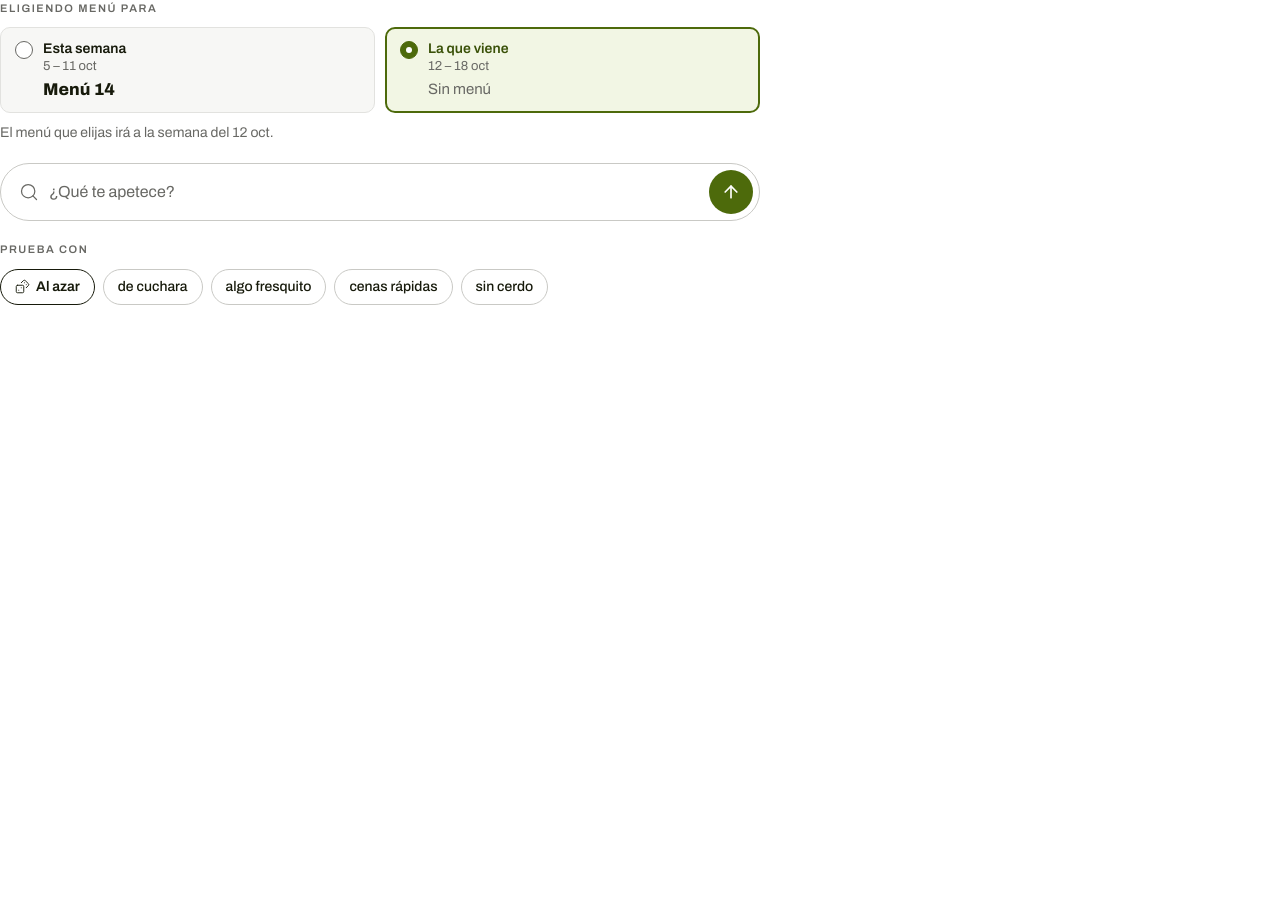
PlannerSearch › the week preview › asks in the footer, and not in the card, before replacing the menu of the week
Step 1. Type "garbanzos sin cerdo" into the field → (374, 192), box [49,172,699,212]
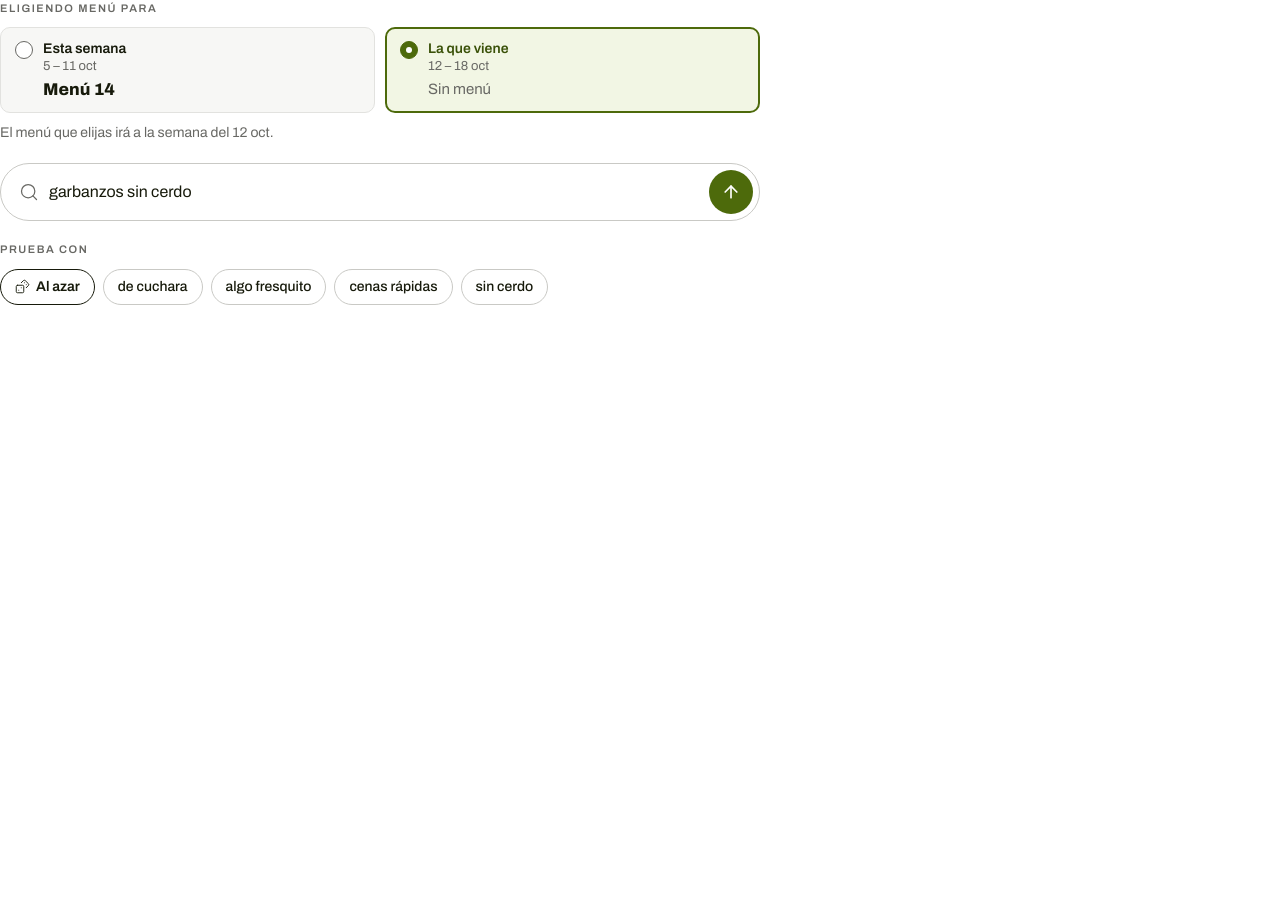
Step 2. Click the button named "Buscar" → (731, 192), box [709,170,753,214]
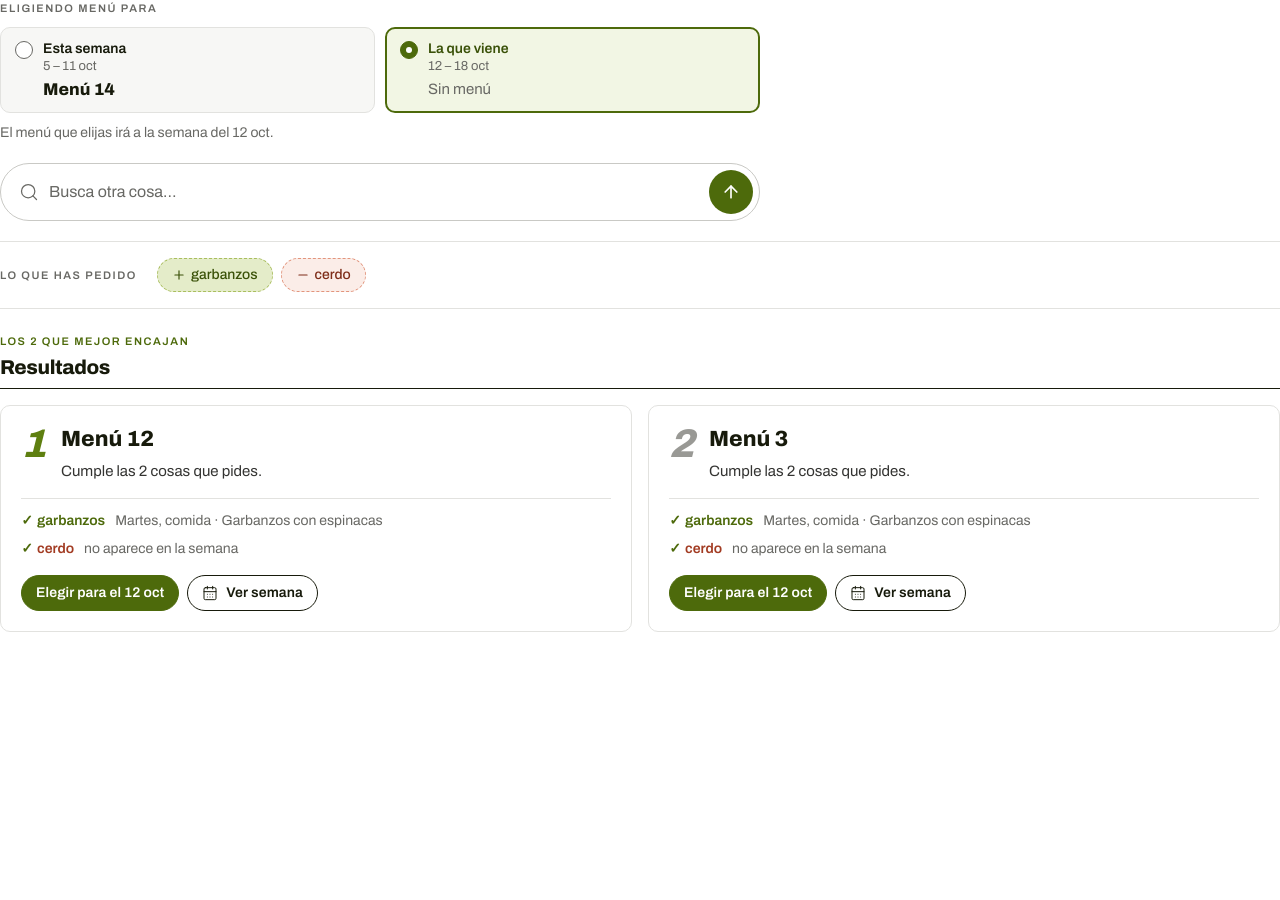
Step 3. Click the button with aria-label "Ver semana del Menú 12" → (253, 593), box [187,575,318,611]
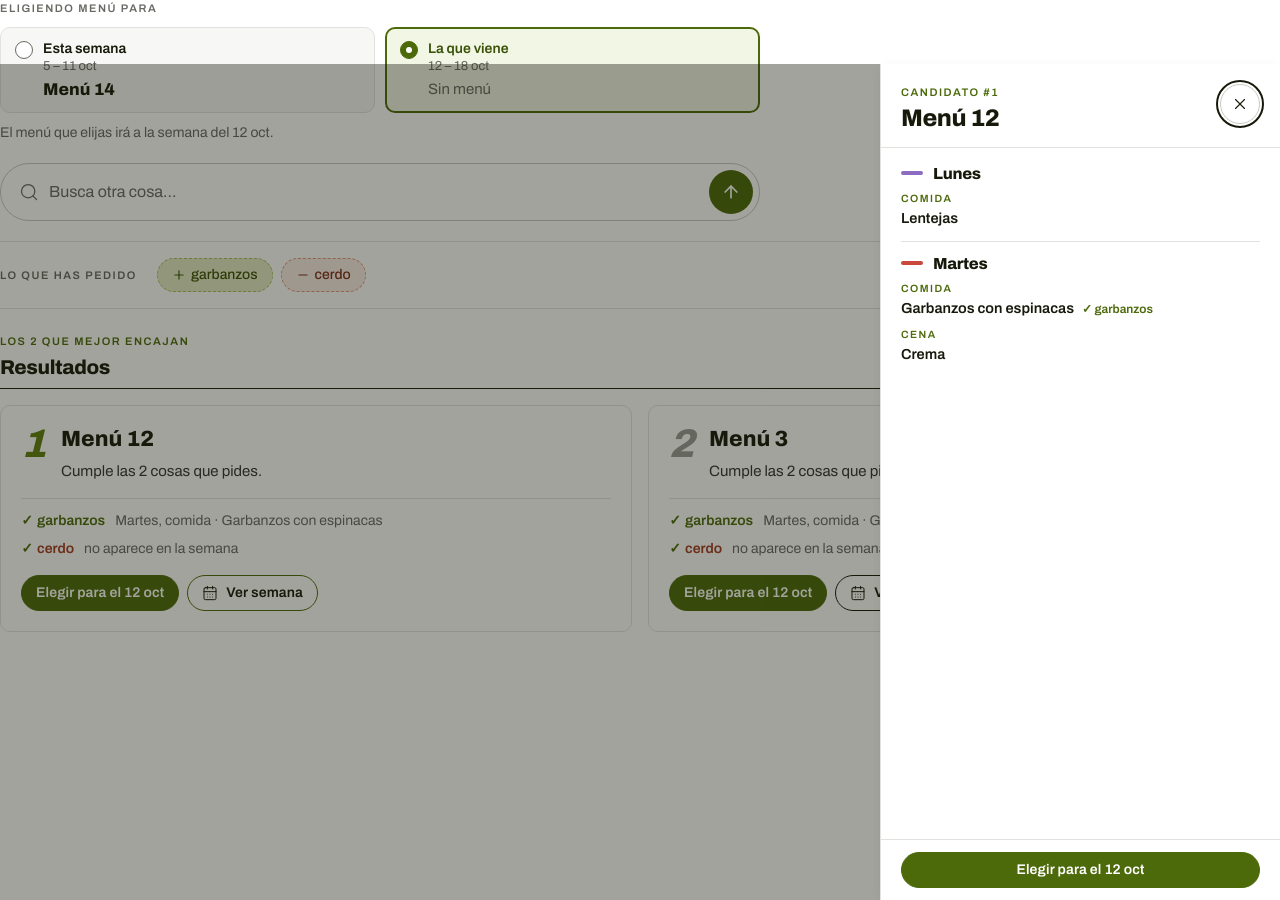
Step 4. Click the radio button labelled "Esta semana 5 – 11 oct Menú 14" → (85, 49), box [0,27,375,113]
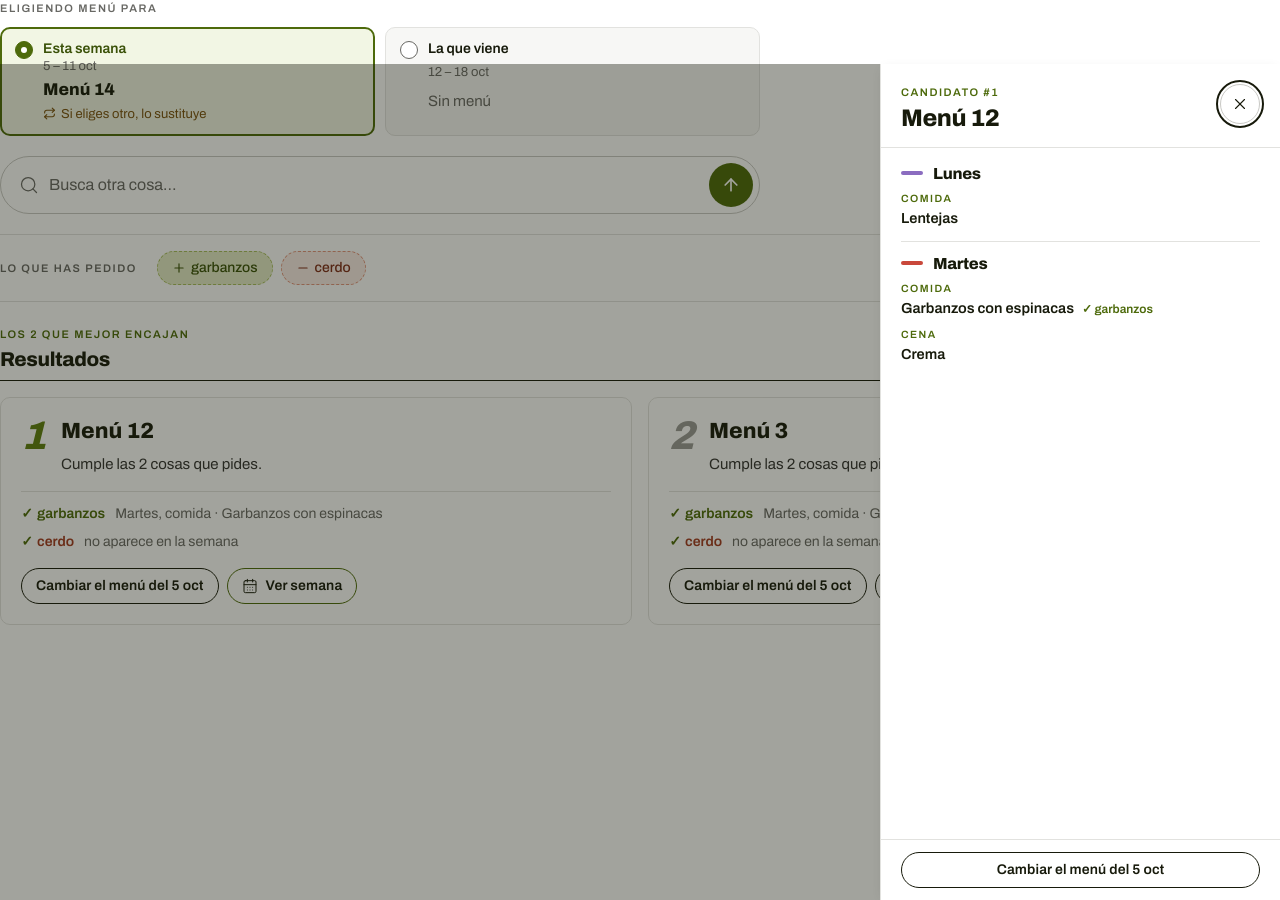
Step 5. Click the button with aria-label "Cambiar el menú del 5 oct (Menú 12)" → (1080, 870), box [901,852,1260,888]
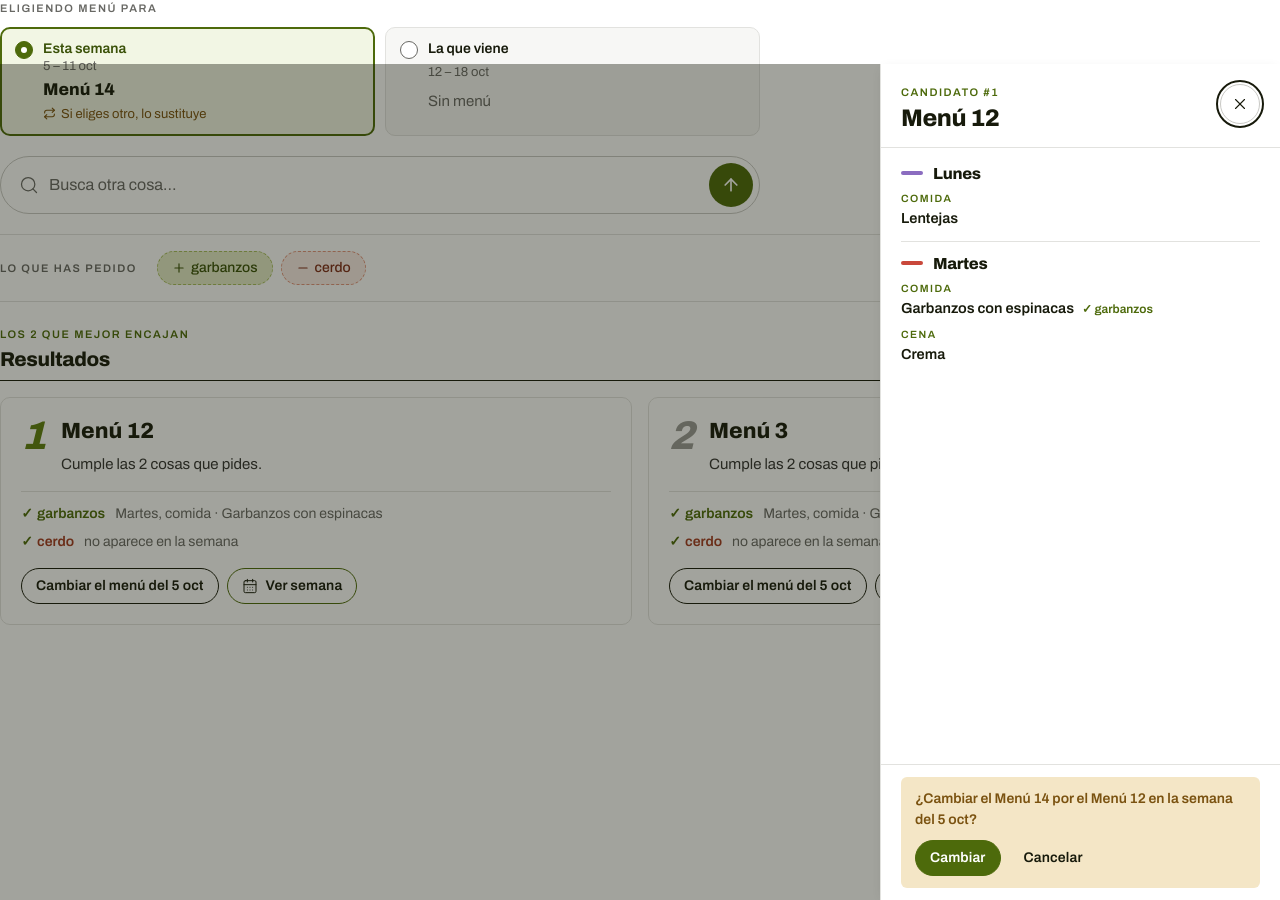
Expected: the element named "Confirmar cambio" shows "¿Cambiar el Menú 14 por el Menú 12 en la semana del 5 oct?", [915,791,1233,827]
